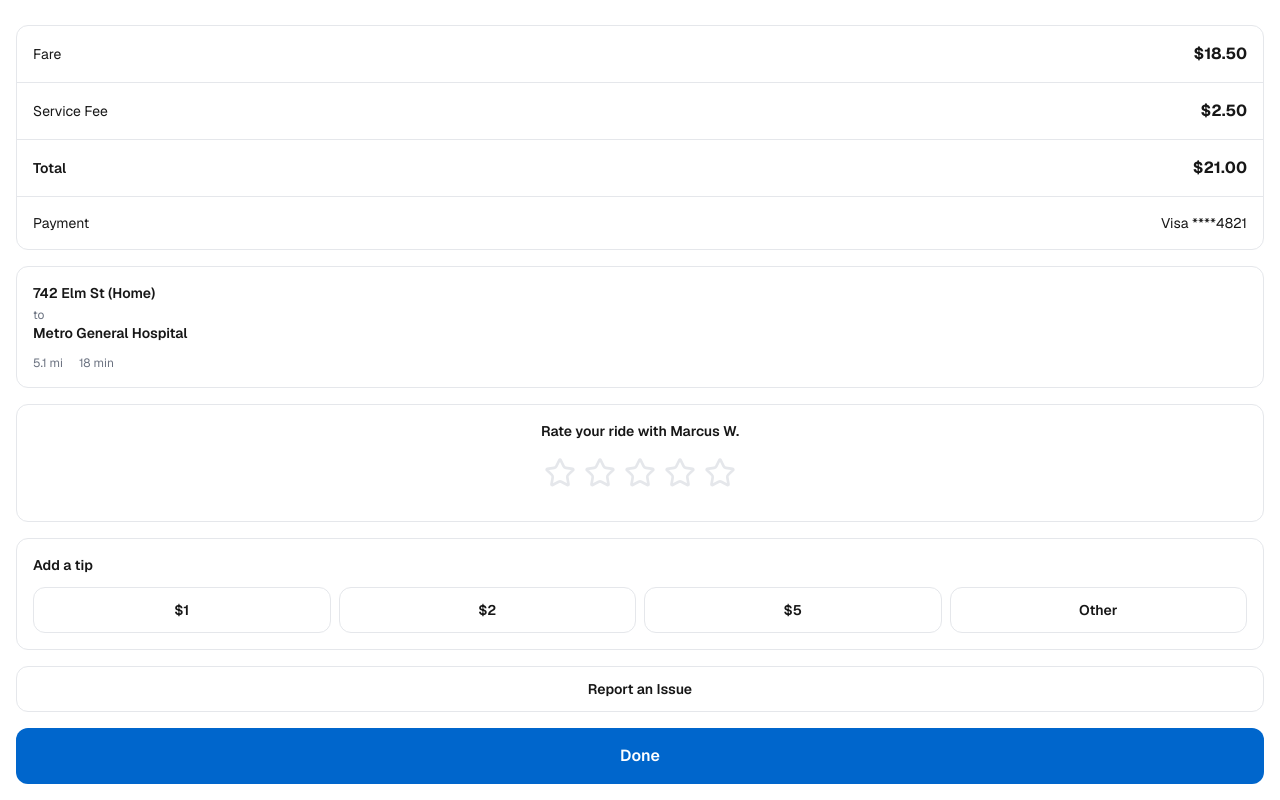
Test: RideCompletePage › renders all sections and 'Report an Issue' toggles form
The width and height of the screenshot is (1280, 800).
(page scrolled)
Expected: the link "Done" is shown, [16,728,1264,784]
Expected: the text "What went wrong?" is not shown
Click "Report an Issue" to show the form
Click the button "Report an Issue": (640,689) [16,666,1264,712]
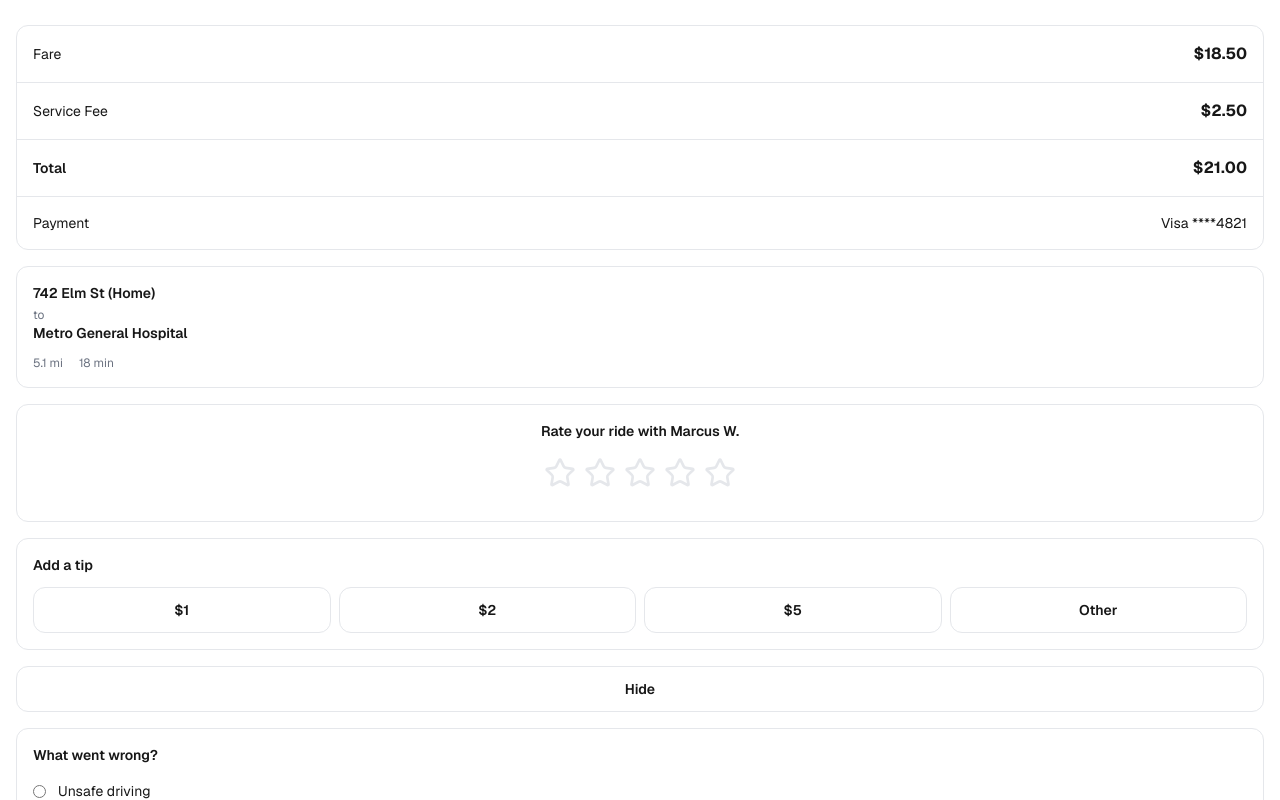
Expected: the text "What went wrong?" is shown, [33,746,158,764]
Click "Hide" to hide it again
Click the button "Hide": (640,689) [16,666,1264,712]
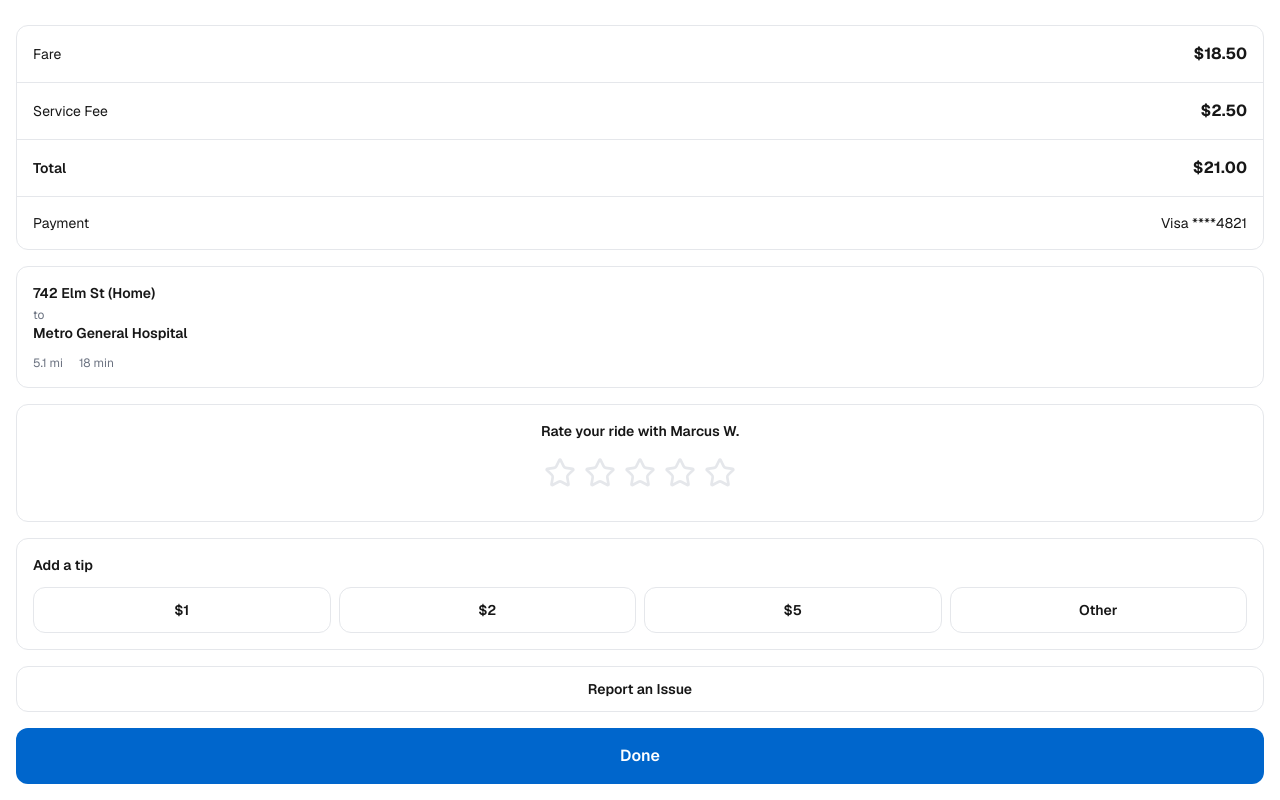
Expected: the text "What went wrong?" is gone
